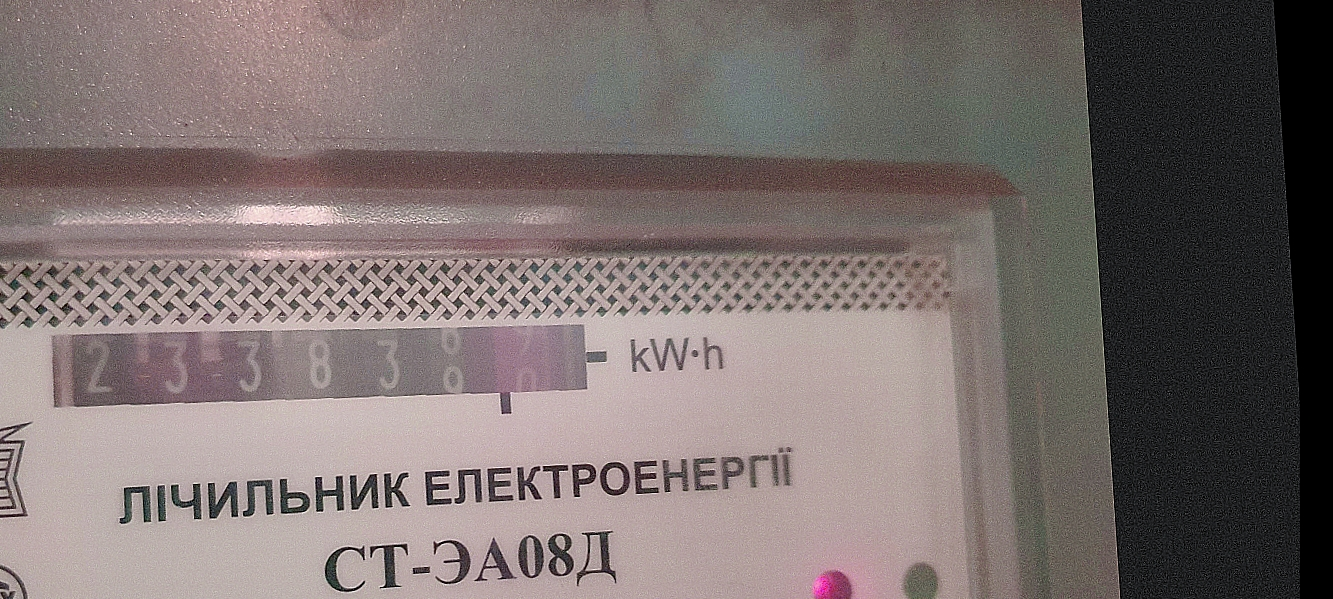0: (511, 363, 540, 399)
2: (77, 335, 119, 398)
3: (228, 332, 267, 398), (159, 336, 190, 396), (372, 333, 404, 391)
8: (300, 332, 337, 393), (437, 322, 465, 356)
9: (507, 319, 539, 360), (438, 361, 468, 399)
screen: (18, 276, 620, 471)
